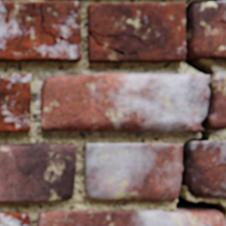brick: (87, 3, 184, 63), (83, 143, 181, 200), (0, 2, 81, 62), (0, 143, 75, 201), (37, 209, 224, 225), (184, 141, 225, 198), (187, 1, 225, 59), (0, 74, 30, 131), (0, 212, 29, 225)
broken_brick: (40, 74, 208, 131), (208, 73, 225, 129)
crack: (175, 1, 225, 225), (89, 31, 138, 57), (40, 2, 64, 45), (119, 34, 145, 45), (19, 28, 28, 42), (30, 2, 34, 21), (205, 0, 224, 2), (215, 163, 225, 166)
